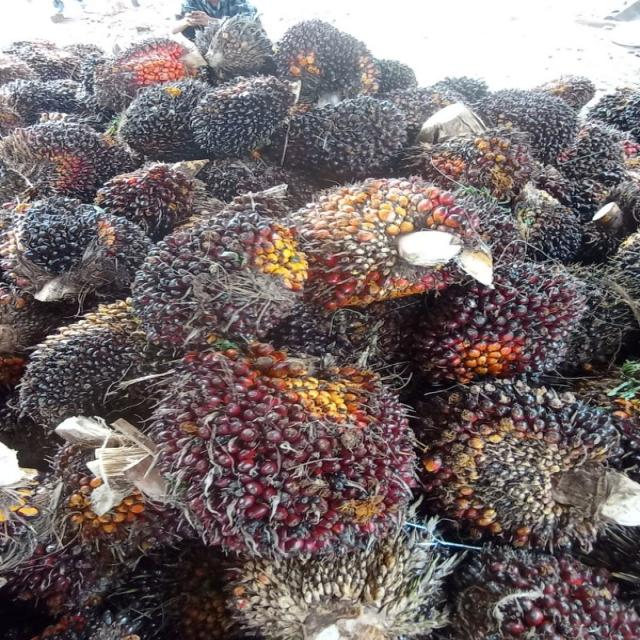fraksi 1: (252, 149, 503, 352)
